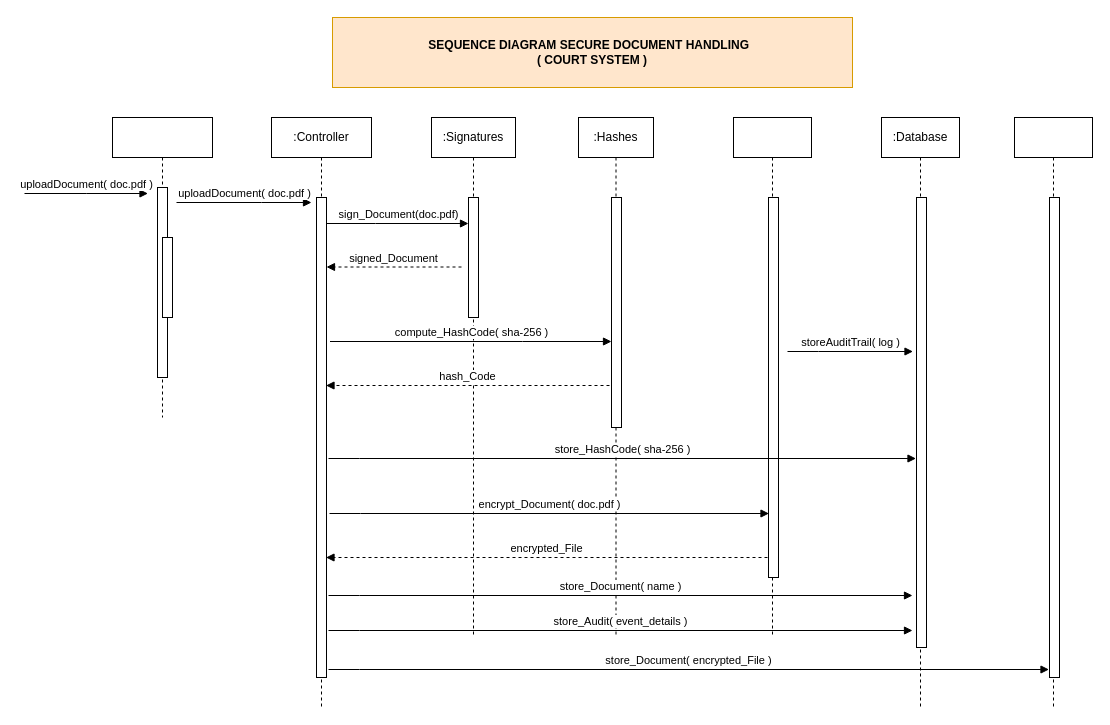
The diagram is 1110 pixels wide and 725 high, and some of its shapes have lost their labels. The shapes that lost their labels are listed below. From the top down, each one's box as (x1, y1, x2, y2) in pixels, then its label:
(112, 116, 212, 418): :User
(732, 116, 812, 638): :Encrypter
(1014, 116, 1092, 708): :Server
